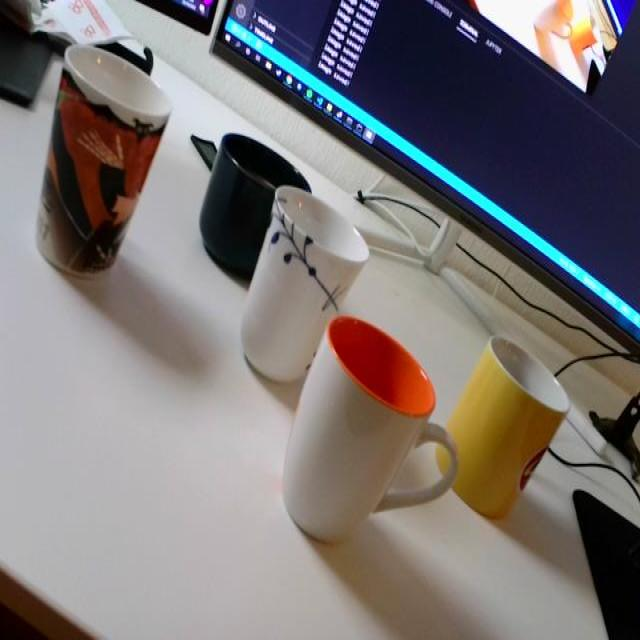cup: (292, 295, 458, 570), (28, 21, 174, 306), (241, 165, 375, 392), (438, 326, 582, 532), (198, 110, 312, 287)
